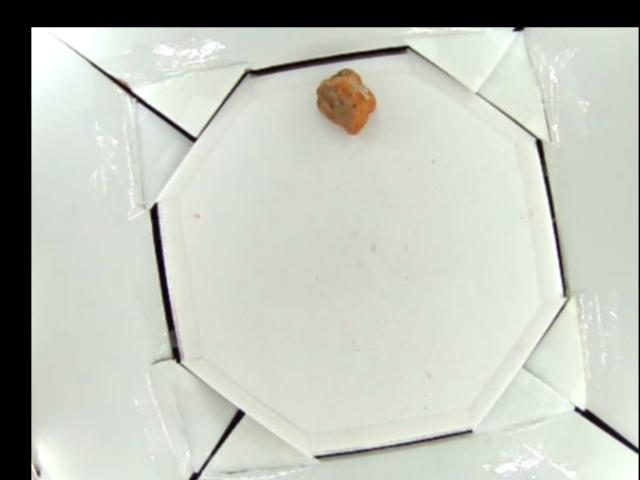Brisk: (316, 68, 375, 134)
